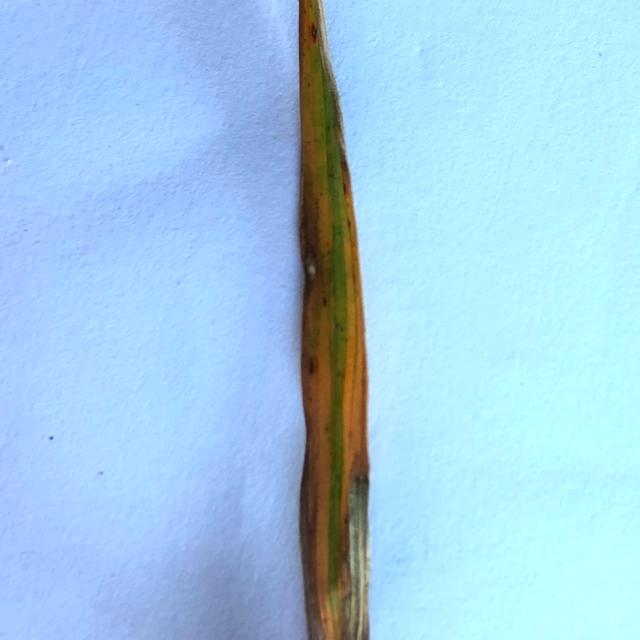tungro: (306, 0, 334, 598), (341, 195, 367, 531)
